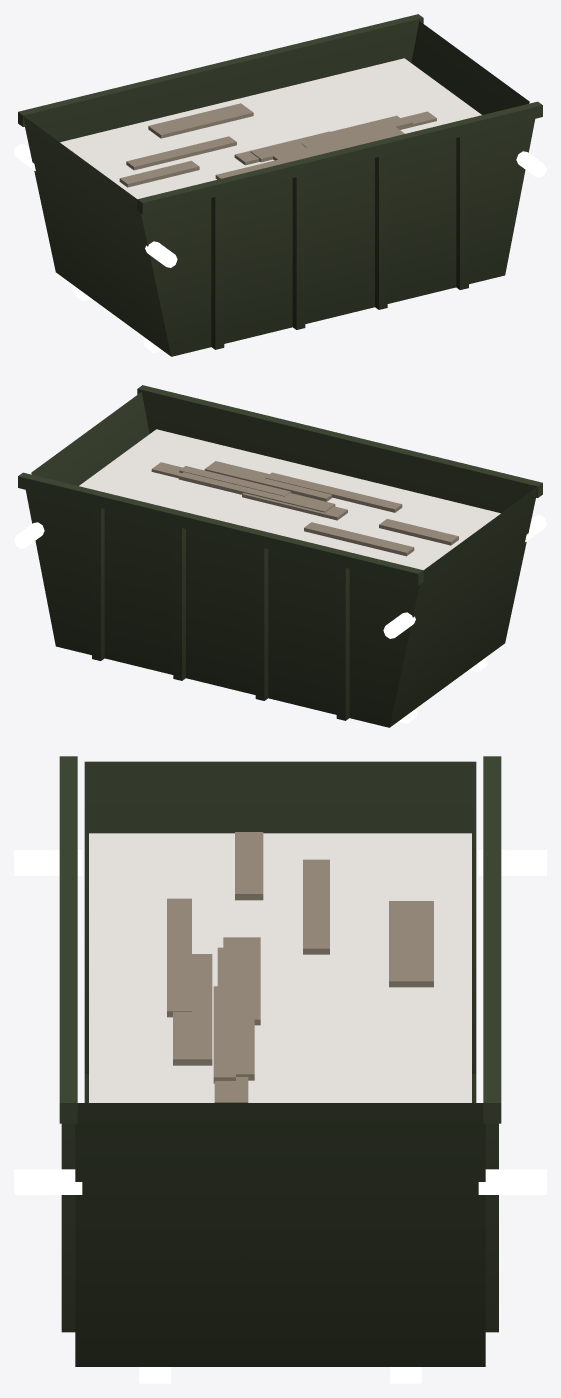
File: skip_green.glb
3 views of the same model, one above another, from view 1: azimuth 30°, elevation 25°; view 2: azimuth 150°, elevation 25°; view 3: azimuth 270°, elevation 25° (orthographic). The views are drawn at different scales.
Visible parts, largest first — view 1: skip_green_LOD0; view 2: skip_green_LOD0; view 3: skip_green_LOD0.
Boxes of the visible parts, x1,y1,x2,y2 form: skip_green_LOD0: (14,14,546,356); skip_green_LOD0: (14,385,546,727); skip_green_LOD0: (14,756,546,1383).
Size of what is drawn, in the model's own units: 3.6 by 1.5 by 2.34.
